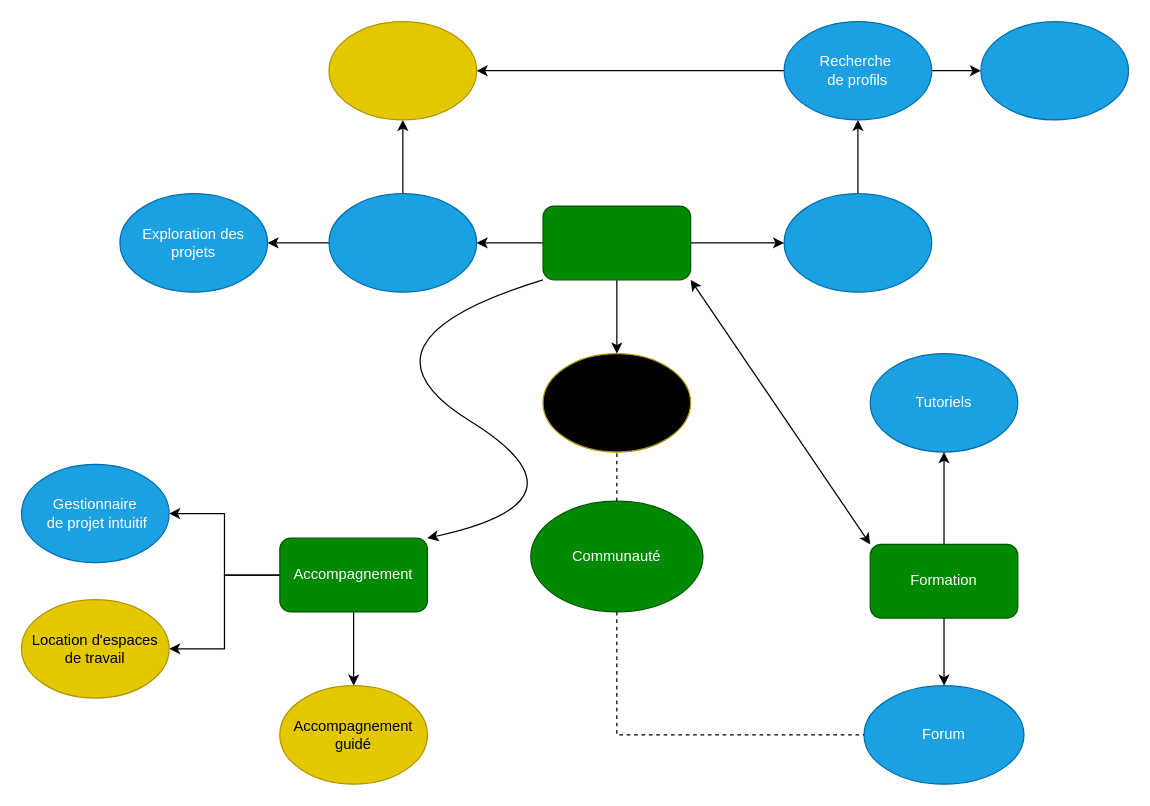
Image size: 1150x806. Some labels were removed from this diagram. The shapes that lost their labels are listed below. From the top down, each one's centre as x and y in pixels, then its label:
At pixel 402 70: "Matching intelligent".
At pixel 1054 70: "Exploration des profils".
At pixel 402 242: "Recherche de projets".
At pixel 616 242: "Réalisation de projets".
At pixel 857 242: "Création de projets".
